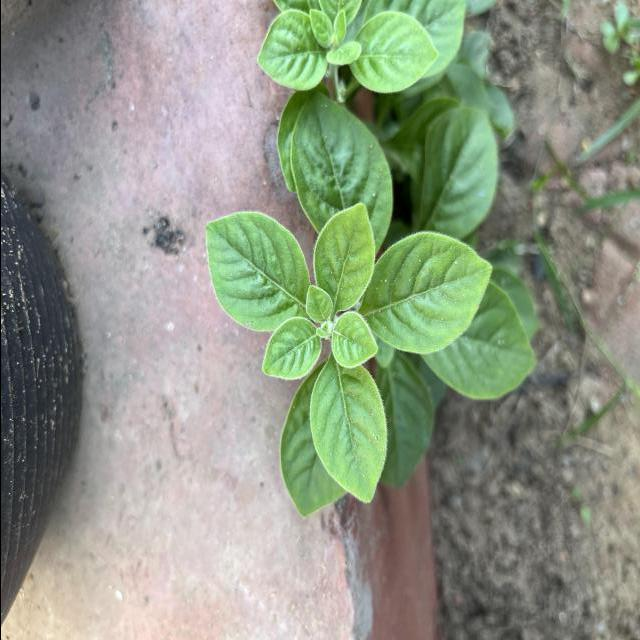Aerva lanata: (357, 226, 494, 358), (202, 208, 311, 335), (305, 354, 390, 507), (309, 200, 376, 316), (258, 314, 324, 382), (327, 308, 380, 372)
